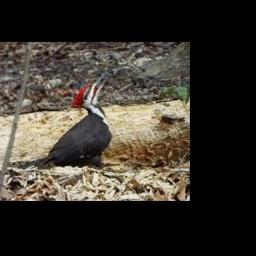Woodpecker: (18, 74, 112, 169)
